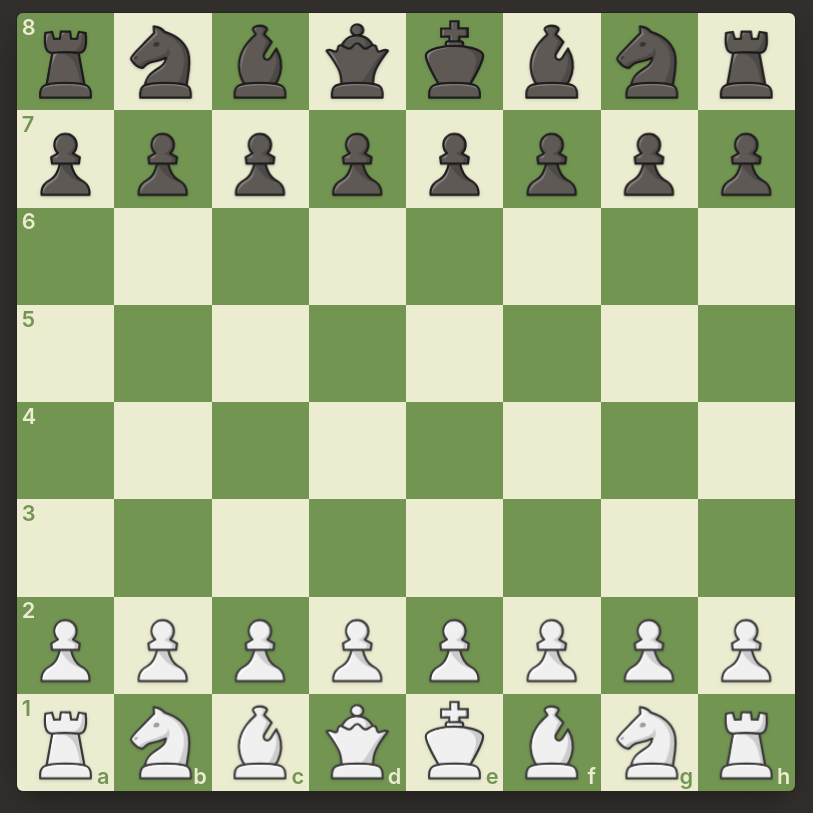
Test: Board: right-click annotations and quiet misclicks › right-click marks a square, right-drag draws an arrow, a left click clears both
Press the mouse on the element showing "8 7 6 5 4 3 2 1 a b c d e f g h" at (406, 402), box [16,12,796,792]
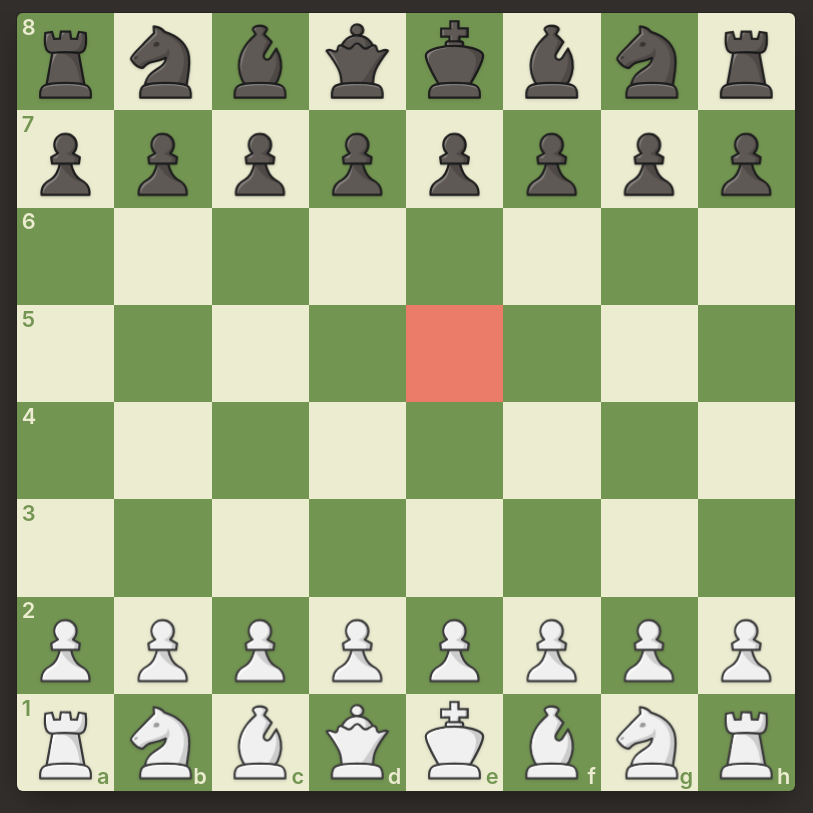
Check: the element with test id "mark-e5" is shown, box [406,305,503,402]
Press the mouse on the element showing "8 7 6 5 4 3 2 1 a b c d e f g h" at (406, 402), box [16,12,796,792]
Press the mouse on the element showing "8 7 6 5 4 3 2 1 a b c d e f g h" at (406, 402), box [16,12,796,792]
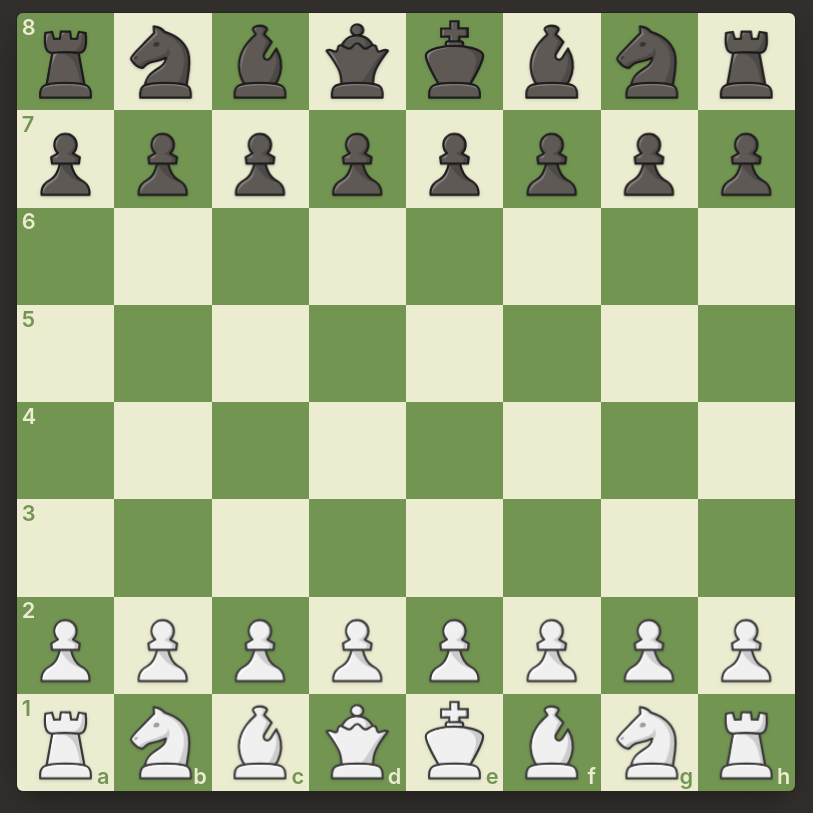
Check: the element with test id "mark-e5" is gone
